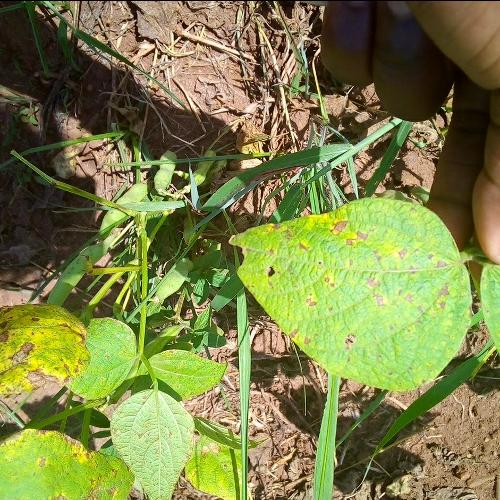hawar: (366, 248, 455, 321), (285, 270, 339, 347), (260, 210, 302, 248), (325, 214, 376, 243)
mozaik: (226, 196, 470, 366)
